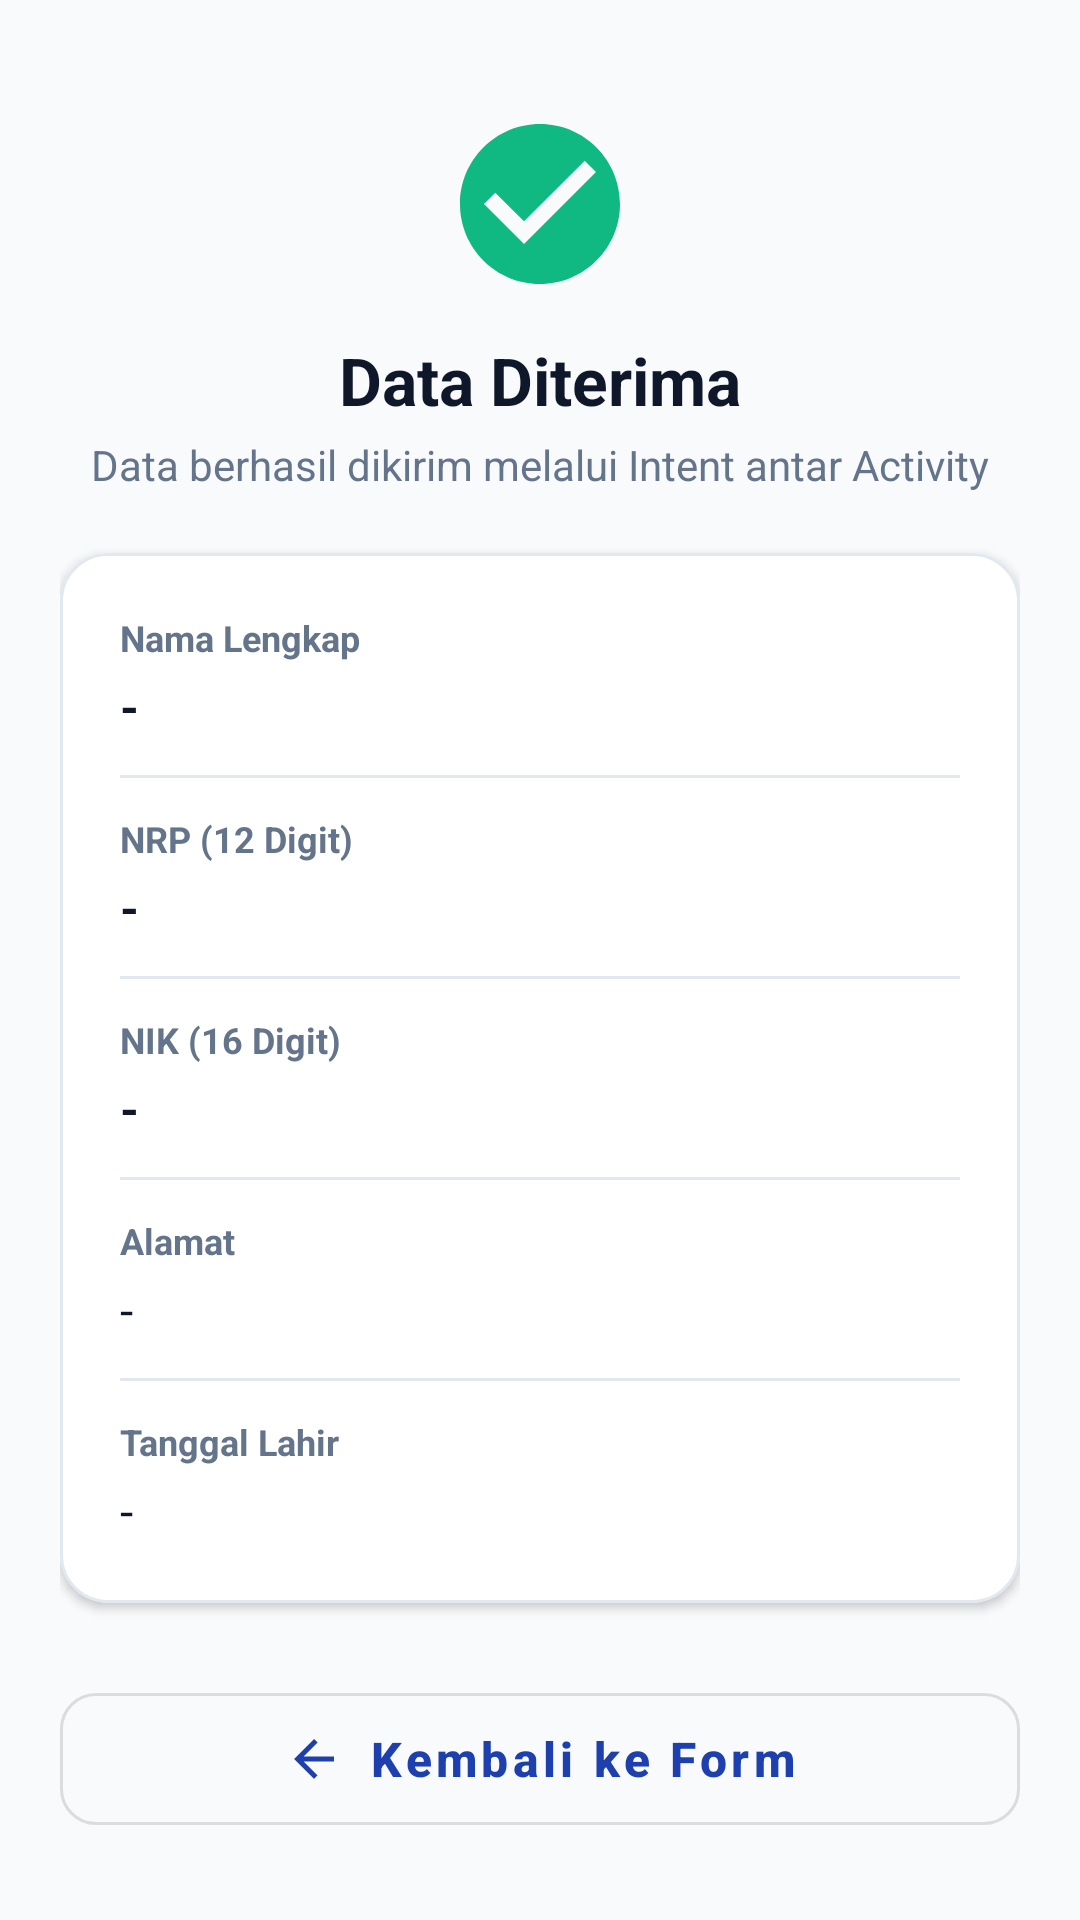

Screen size 1080x1920. Icon name, then its box in pixels as (x1, y1, x2, y2):
Success: (460, 124, 620, 284)
